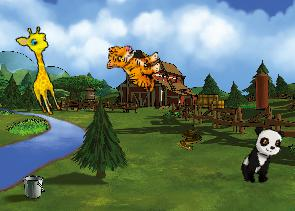giraffe: (13, 23, 72, 118)
panda: (237, 122, 286, 189)
tiger: (105, 43, 162, 92)
